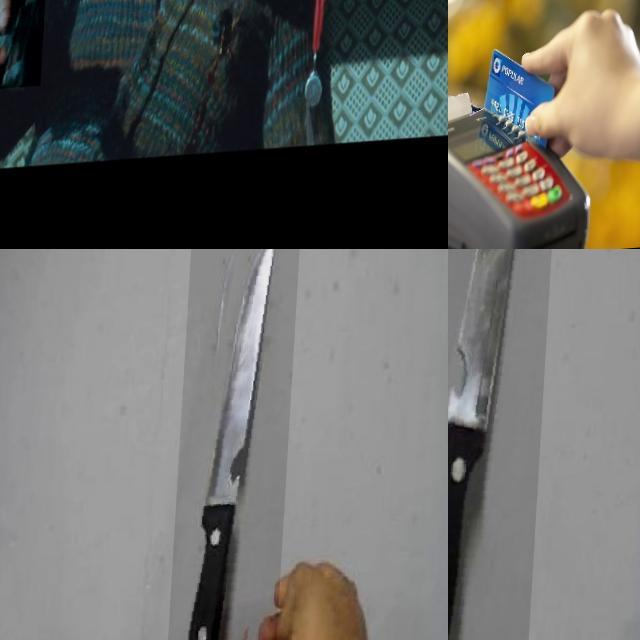-: (166, 249, 302, 640), (448, 249, 558, 640)
gun-knife-thesis - v11 Yolov5 augmented: (0, 0, 51, 93)
